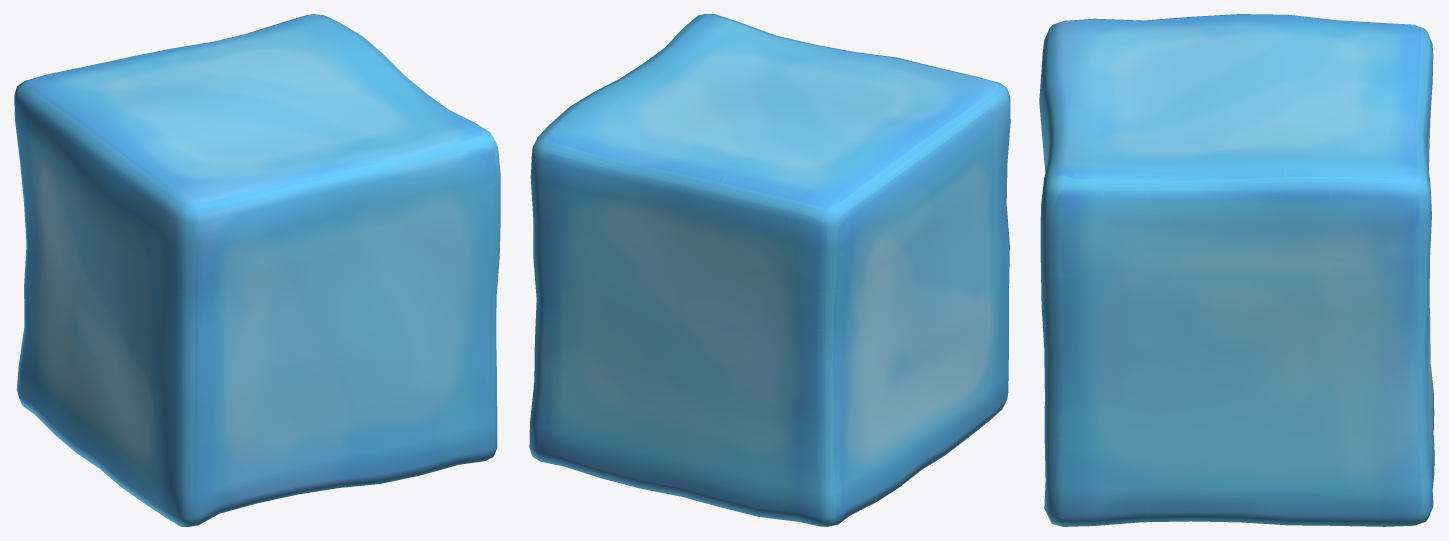
Rendered from IceCube.fbx.
3 renders of one model, left to right at view 1: azimuth 30°, elevation 25°; view 2: azimuth 150°, elevation 25°; view 3: azimuth 270°, elevation 25°, orthographic. The views are drawn at different scales.
Parts seen in each view (by area): view 1: Cube; view 2: Cube; view 3: Cube.
Part boxes in pixels (bbox=[...]): Cube: bbox=[14, 14, 500, 526]; Cube: bbox=[529, 14, 1010, 526]; Cube: bbox=[1039, 14, 1434, 526].
Size of the model in its own units: 210 by 207 by 204.
